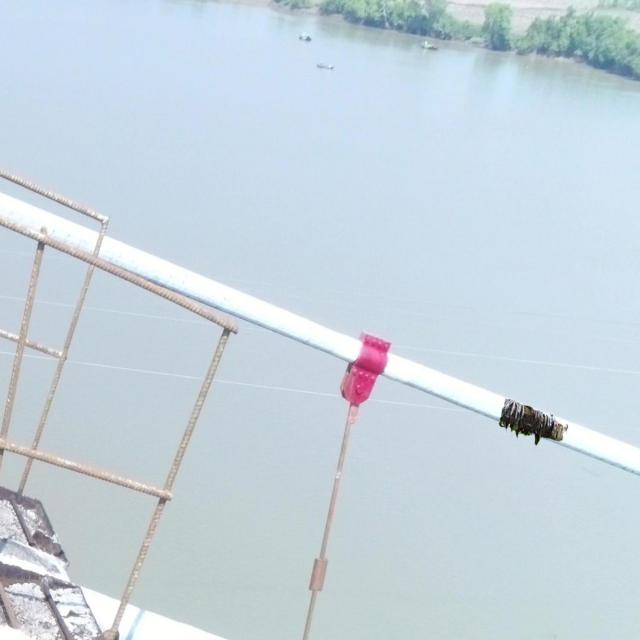corrosion: (497, 398, 569, 448)
